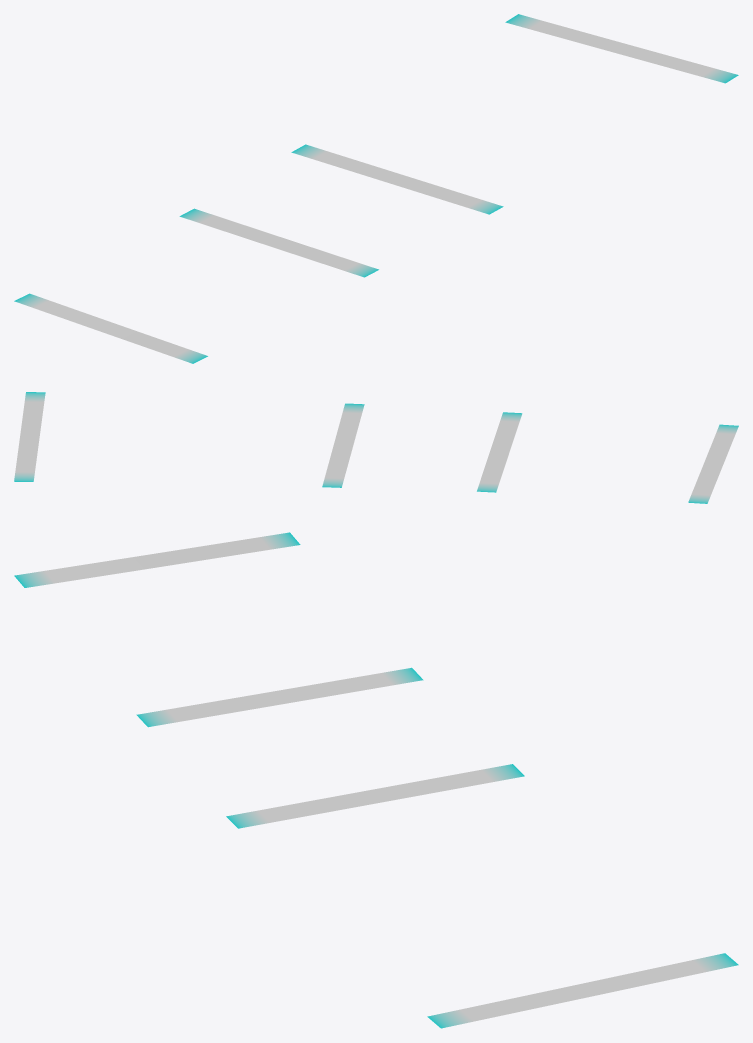
The picture shows the model from 3 angles, top to bottom: view 1: azimuth 30°, elevation 25°; view 2: azimuth 150°, elevation 25°; view 3: azimuth 270°, elevation 25°; orthographic projection. The views are drawn at different scales.
Parts seen in each view (by area): view 1: SpaceCenter_Long3_GenerateRoad_Asphalt_PCGMesh_Decal_Mesh_x1; view 2: SpaceCenter_Long3_GenerateRoad_Asphalt_PCGMesh_Decal_Mesh_x1; view 3: SpaceCenter_Long3_GenerateRoad_Asphalt_PCGMesh_Decal_Mesh_x1.
Part boxes in pixels (bbox=[...]): SpaceCenter_Long3_GenerateRoad_Asphalt_PCGMesh_Decal_Mesh_x1: bbox=[14, 14, 738, 363]; SpaceCenter_Long3_GenerateRoad_Asphalt_PCGMesh_Decal_Mesh_x1: bbox=[14, 392, 738, 503]; SpaceCenter_Long3_GenerateRoad_Asphalt_PCGMesh_Decal_Mesh_x1: bbox=[14, 532, 738, 1028].
Size of the model in its own units: 845 by 1337 by 14.88.
